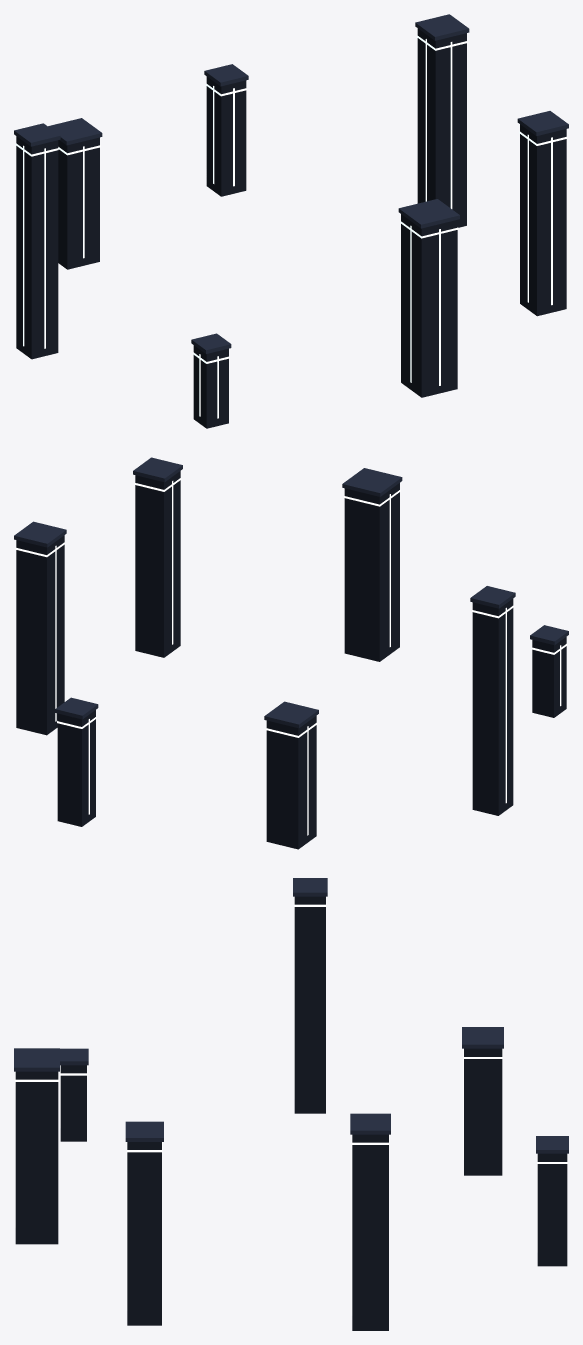
3 renders of one model, top to bottom at view 1: azimuth 30°, elevation 25°; view 2: azimuth 150°, elevation 25°; view 3: azimuth 270°, elevation 25°, orthographic. The views are drawn at different scales.
Parts seen in each view (by area): view 1: nexo_spires_frontera.lod1; view 2: nexo_spires_frontera.lod1; view 3: nexo_spires_frontera.lod1.
Part boxes in pixels (left/top/right/bottom): nexo_spires_frontera.lod1: left=14, top=14, right=568, bottom=428; nexo_spires_frontera.lod1: left=14, top=457, right=568, bottom=849; nexo_spires_frontera.lod1: left=14, top=878, right=568, bottom=1330.
Bounding box in the file's own units: 25.19 × 11.22 × 25.46.
